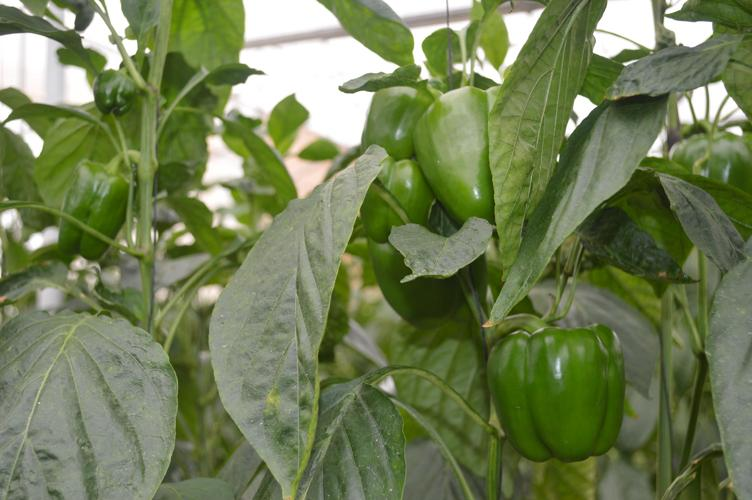BellPepper: (487, 321, 624, 465), (413, 88, 493, 224), (370, 246, 462, 326), (60, 161, 131, 263), (352, 154, 425, 237), (668, 134, 746, 198), (357, 88, 420, 155), (93, 70, 135, 115)
